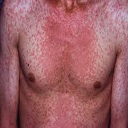Measles: (14, 8, 119, 70), (36, 105, 87, 128), (42, 74, 80, 97)
